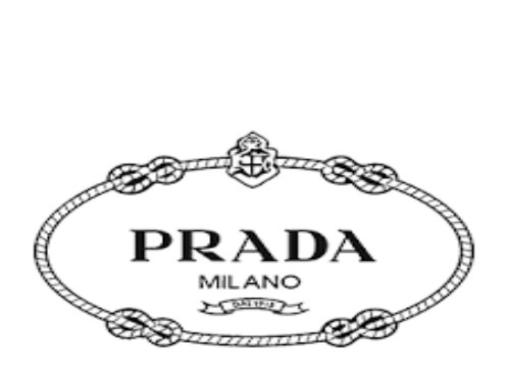PRADA: (123, 212, 378, 265)
